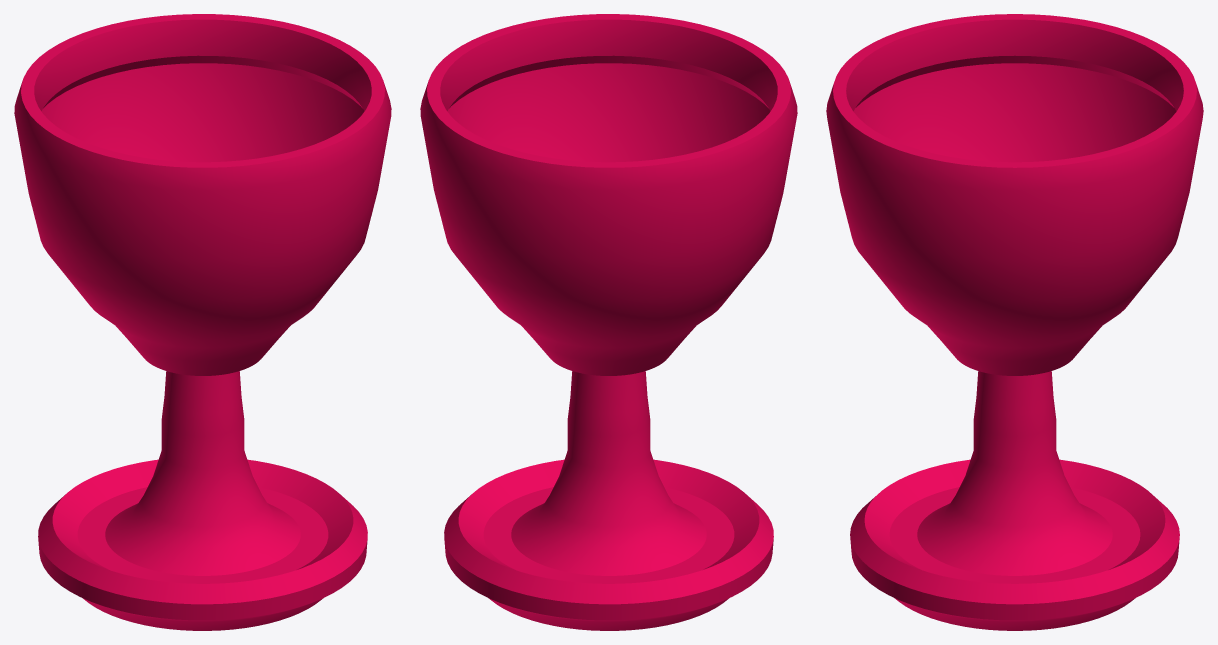
The model's file is cup2.glb.
3 views of the same model, side by side, from view 1: azimuth 30°, elevation 25°; view 2: azimuth 150°, elevation 25°; view 3: azimuth 270°, elevation 25° (orthographic).
Parts seen in each view (by area): view 1: Cup2.001; view 2: Cup2.001; view 3: Cup2.001.
Part boxes in pixels (x1=…): Cup2.001: x1=14, y1=14, x2=391, y2=630; Cup2.001: x1=420, y1=14, x2=797, y2=630; Cup2.001: x1=826, y1=14, x2=1203, y2=630.
Bounding box in the file's own units: 2.52 × 3.58 × 2.52.
